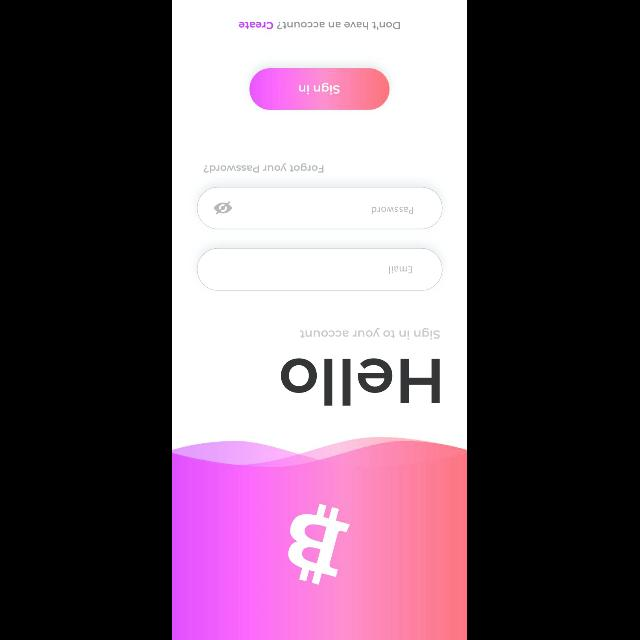icon: (214, 202, 232, 214)
image: (289, 504, 351, 584)
input: (197, 187, 443, 229), (198, 248, 442, 290)
text: (281, 358, 441, 406), (300, 328, 440, 340), (240, 20, 400, 30), (204, 162, 324, 174), (372, 206, 413, 214), (390, 266, 412, 274)
textbutton: (250, 68, 390, 110)
